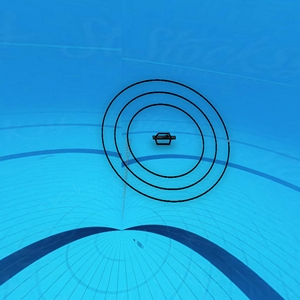circle: (101, 80, 233, 201)
submarine: (151, 129, 177, 147)
